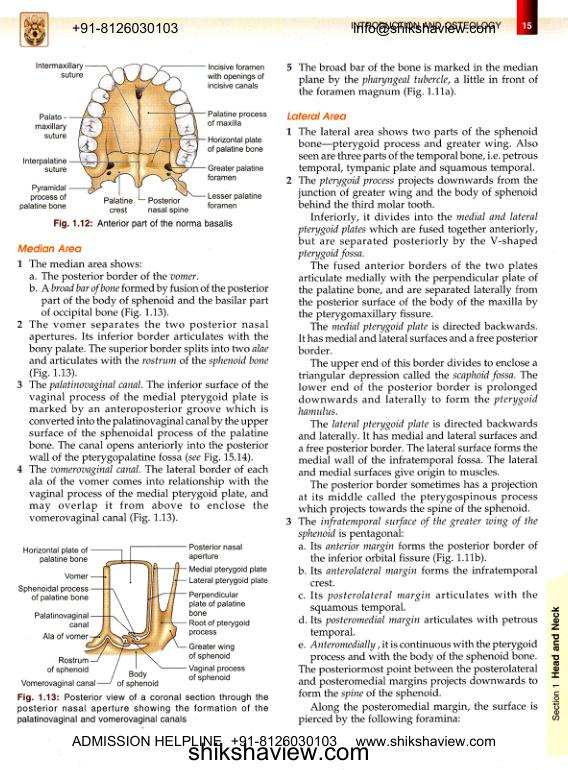caption: (16, 692, 271, 726), (52, 218, 234, 229)
image: (14, 55, 279, 216), (12, 538, 274, 689)
list: (282, 124, 541, 727), (15, 258, 271, 527), (296, 541, 539, 663), (284, 60, 541, 100)
sub-section-heading: (285, 110, 348, 122)
